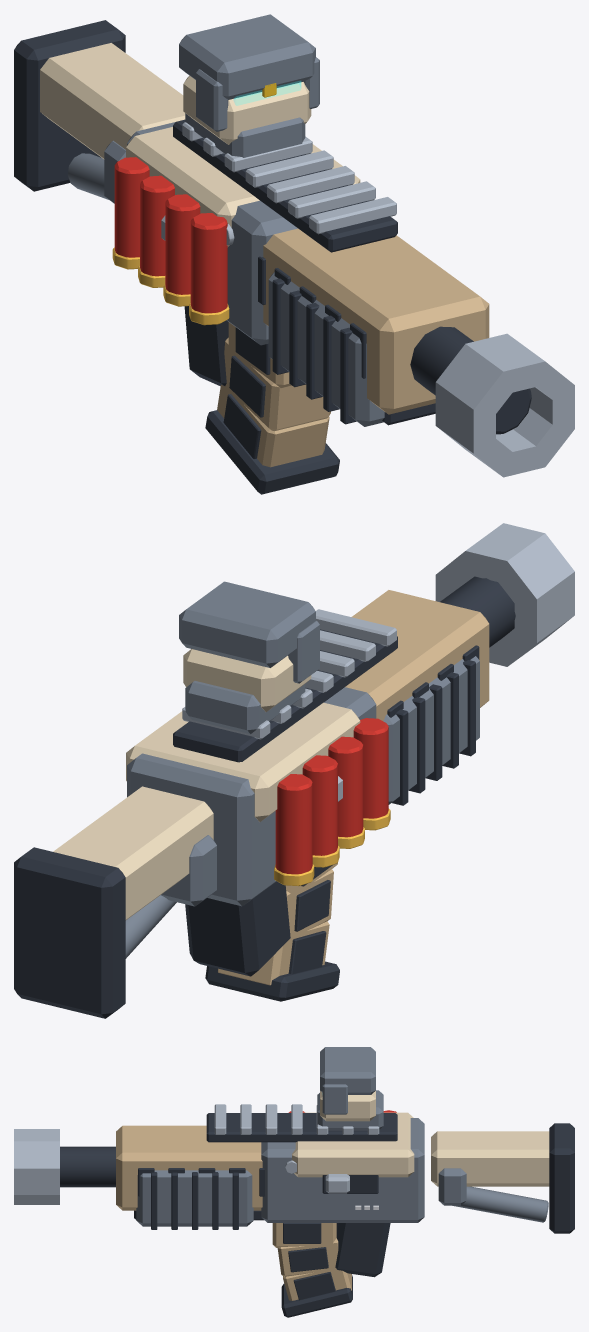
File: Military_SG_v001.fbx
3 views of the same model, one above another, from view 1: azimuth 30°, elevation 25°; view 2: azimuth 150°, elevation 25°; view 3: azimuth 270°, elevation 25° (orthographic). The views are drawn at different scales.
Parts seen in each view (by area): view 1: Military_SG__RECEIVER_MESH, Military_SG__MAGAZINE_MESH; view 2: Military_SG__RECEIVER_MESH, Military_SG__MAGAZINE_MESH; view 3: Military_SG__RECEIVER_MESH, Military_SG__MAGAZINE_MESH.
Boxes of the visible parts, x1,y1,x2,y2 form: Military_SG__RECEIVER_MESH: (14, 14, 574, 477); Military_SG__MAGAZINE_MESH: (205, 322, 339, 494); Military_SG__RECEIVER_MESH: (14, 523, 574, 1018); Military_SG__MAGAZINE_MESH: (205, 863, 339, 1001); Military_SG__RECEIVER_MESH: (14, 1047, 574, 1277); Military_SG__MAGAZINE_MESH: (272, 1223, 352, 1317).
Bounding box in the file's own units: 0.5064 × 1.07 × 2.2.
